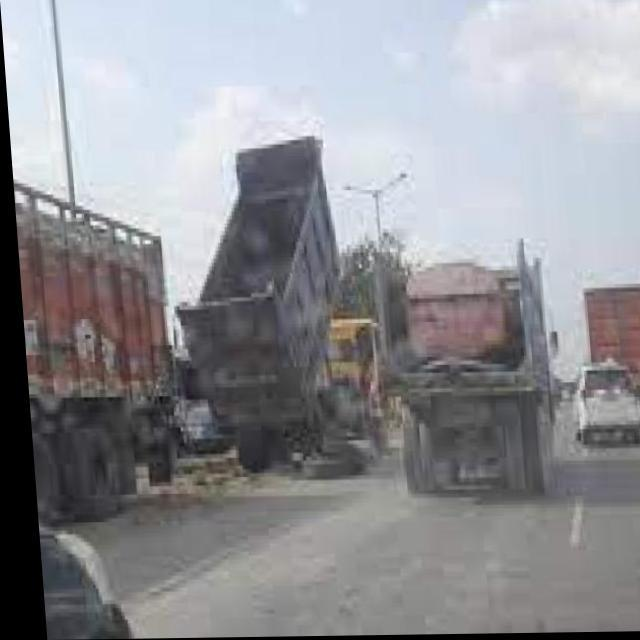uncovered: (176, 133, 321, 470), (361, 230, 534, 462)
